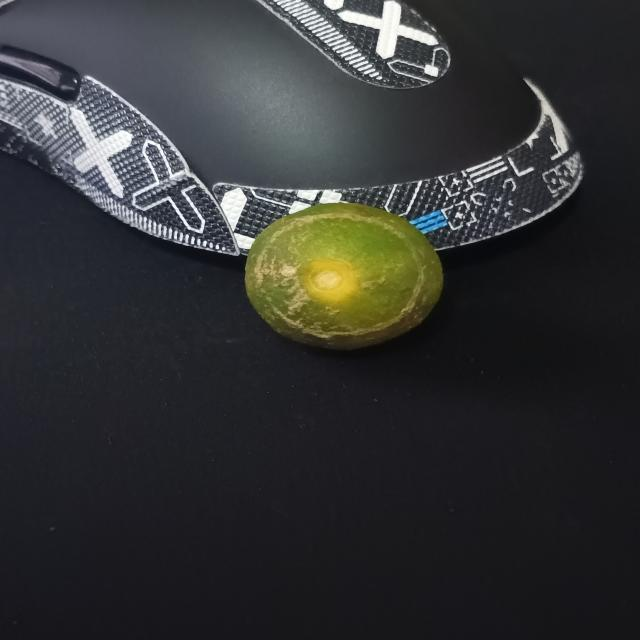thrips: (238, 196, 456, 353)
